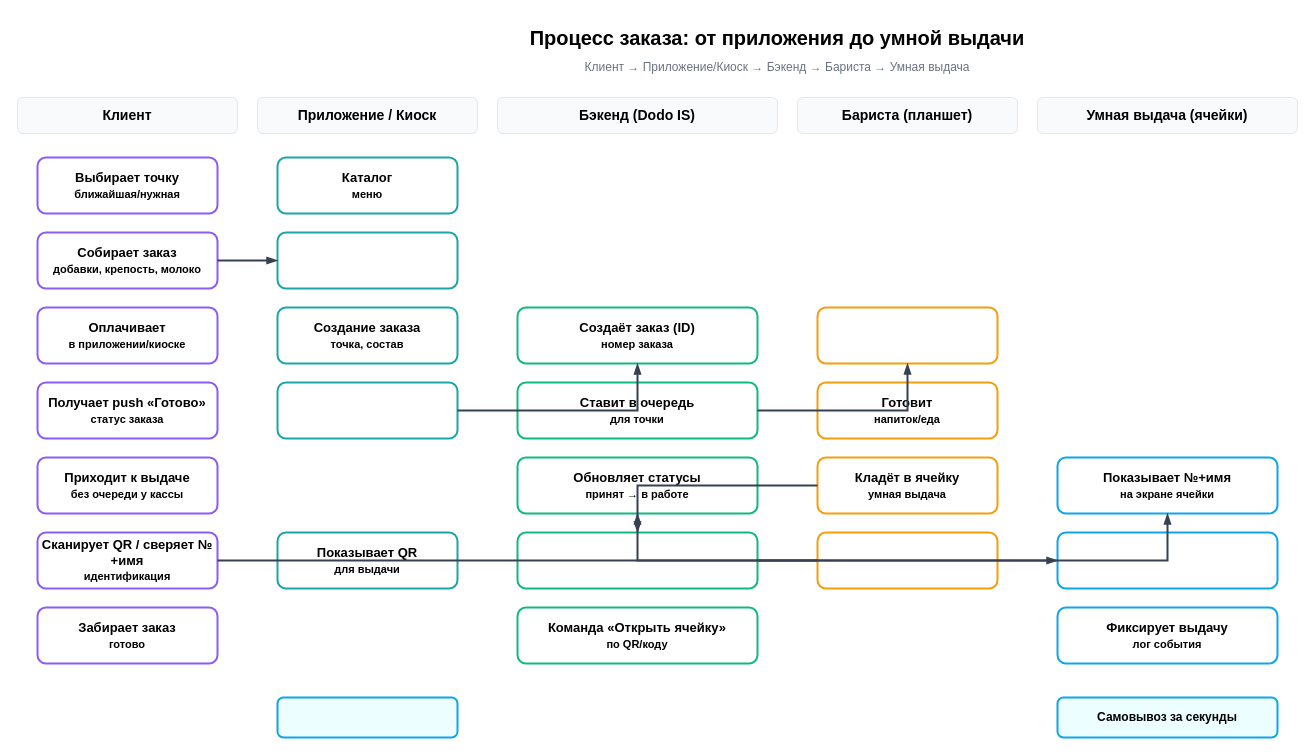
Some shapes in this 1315 by 755 pixel diagram are drawn without their labels. The centre of each missing label's shape, as x and y in pixels:
"Без очереди у кассы" belongs at pixel 367 717.
"Кастомизация ингредиенты, опции" belongs at pixel 367 260.
"Открывает ячейку после QR" belongs at pixel 1167 560.
"Отмечает «Готово» статус" belongs at pixel 907 560.
"Платёж карта/СБП" belongs at pixel 367 410.
"Получает заказ на планшет" belongs at pixel 907 335.
"Привязка к ячейке ячейка N" belongs at pixel 637 560.
